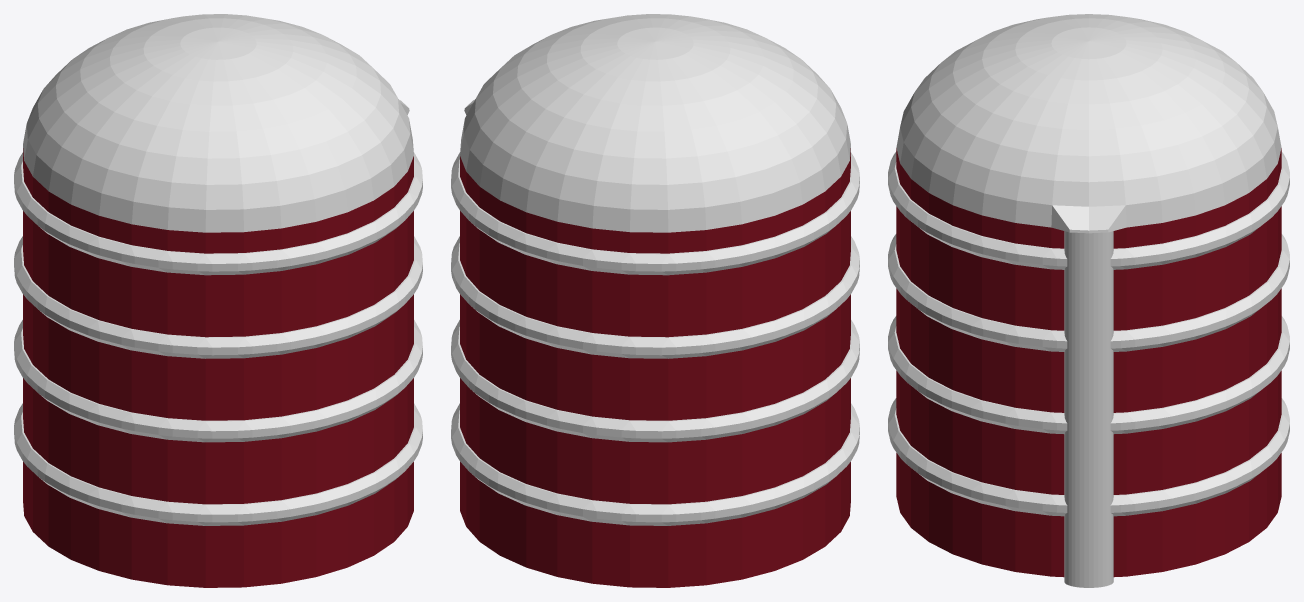
File: silo.gltf
3 renders of one model, left to right at view 1: azimuth 30°, elevation 25°; view 2: azimuth 150°, elevation 25°; view 3: azimuth 270°, elevation 25°, orthographic.
Visible parts, largest first — view 1: Silo, Sphere, Silo Rings; view 2: Silo, Sphere, Silo Rings; view 3: Silo, Sphere, Silo Rings, Cylinder.
Part boxes in pixels (left/top/right/bottom): Silo: left=23, top=148, right=413, bottom=587; Sphere: left=23, top=14, right=413, bottom=232; Silo Rings: left=14, top=152, right=422, bottom=525; Silo: left=460, top=148, right=850, bottom=587; Sphere: left=460, top=14, right=850, bottom=232; Silo Rings: left=451, top=152, right=859, bottom=525; Silo: left=896, top=148, right=1281, bottom=577; Sphere: left=896, top=14, right=1281, bottom=233; Silo Rings: left=888, top=151, right=1289, bottom=516; Cylinder: left=1064, top=231, right=1113, bottom=587.
Size of the model in its own units: 2.12 by 2.63 by 2.09.
